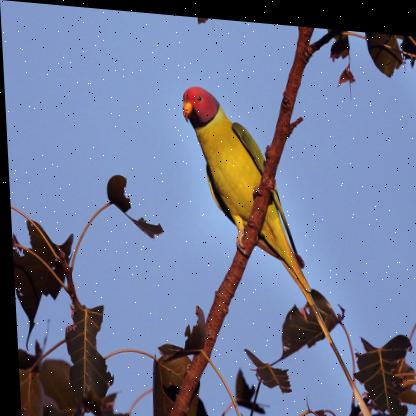Burung: (181, 81, 372, 415)
